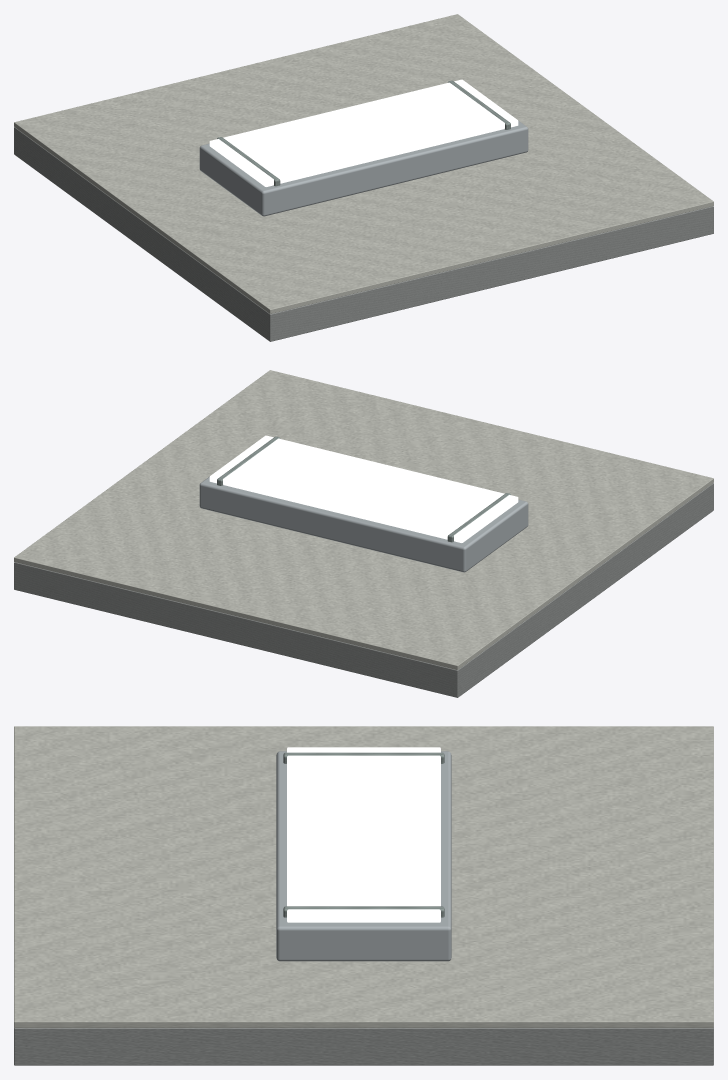
The model's file is three-d-liminal-spaces-kit-liminal-spaces-kit-ceiling-fluorescent-0299417a.glb.
The picture shows the model from 3 angles, top to bottom: view 1: azimuth 30°, elevation 25°; view 2: azimuth 150°, elevation 25°; view 3: azimuth 270°, elevation 25°; orthographic projection. The views are drawn at different scales.
Parts seen in each view (by area): view 1: ceiling-fluorescent; view 2: ceiling-fluorescent; view 3: ceiling-fluorescent.
Boxes of the visible parts, bbox=[...] form: ceiling-fluorescent: bbox=[14, 14, 713, 341]; ceiling-fluorescent: bbox=[14, 370, 713, 697]; ceiling-fluorescent: bbox=[14, 726, 713, 1065].
Size of the model in its own units: 2 by 0.2762 by 2.
Materials: 5 (3 with a texture image).
